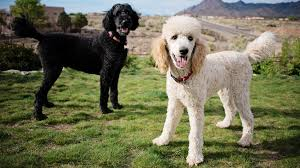Bulldog: (150, 13, 287, 164), (11, 3, 149, 129)
